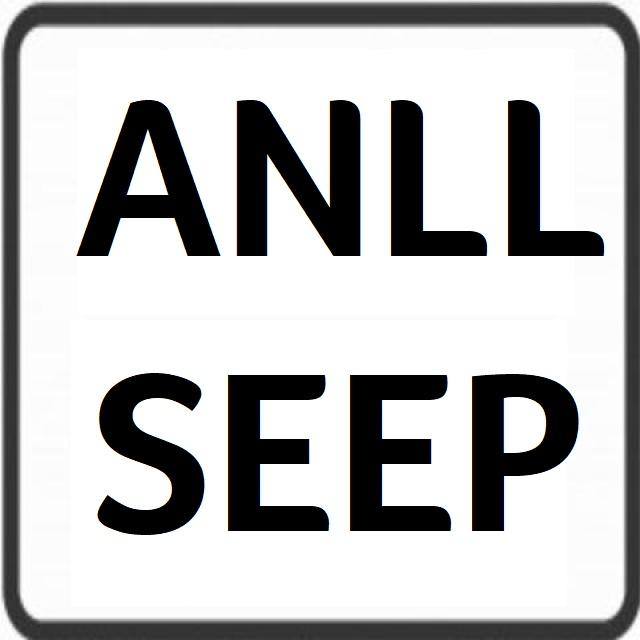A: (74, 71, 226, 291)
E: (222, 339, 338, 545), (342, 348, 452, 544)
L: (386, 64, 493, 272), (503, 70, 611, 274)
N: (228, 63, 366, 274)
P: (463, 366, 583, 547)
S: (90, 348, 208, 540)
